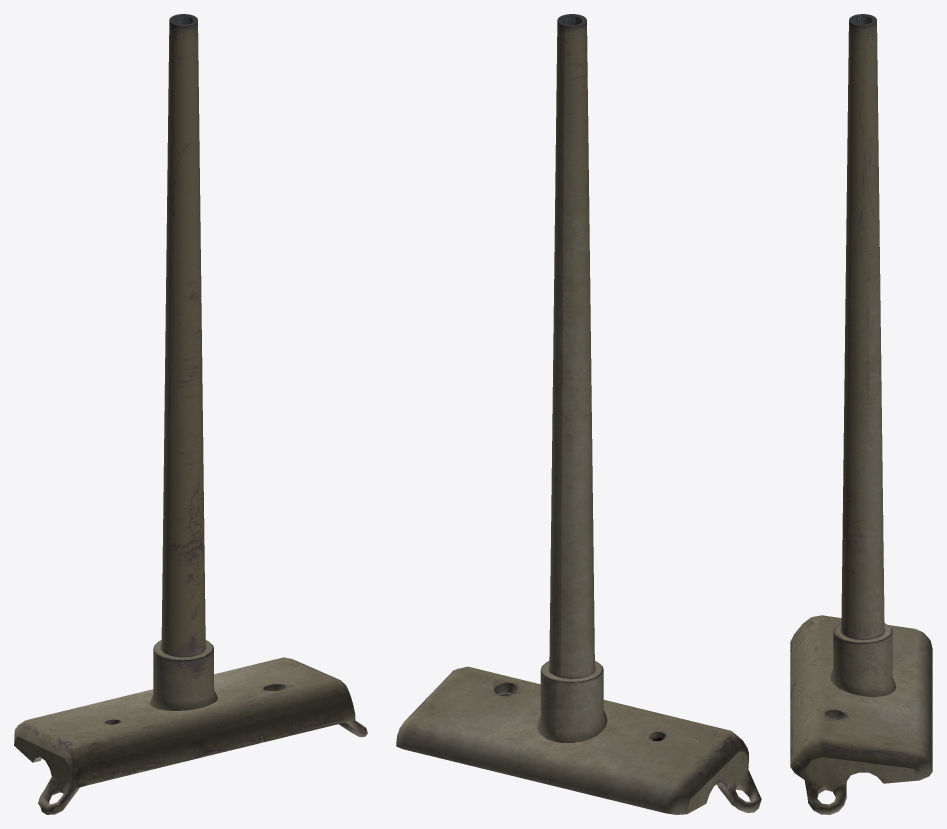
Rendered from Gun_01.glb.
3 views of the same model, side by side, from view 1: azimuth 30°, elevation 25°; view 2: azimuth 150°, elevation 25°; view 3: azimuth 270°, elevation 25° (orthographic). The views are drawn at different scales.
Visible parts, largest first — view 1: set_0_group_0; view 2: set_0_group_0; view 3: set_0_group_0.
Part boxes in pixels (x1,y1,x2,y2): set_0_group_0: [14, 14, 367, 814]; set_0_group_0: [396, 14, 761, 814]; set_0_group_0: [790, 14, 932, 814].
Size of the model in its own units: 1.42 by 3.12 by 0.5594.
Materials: 1 (1 with a texture image).
